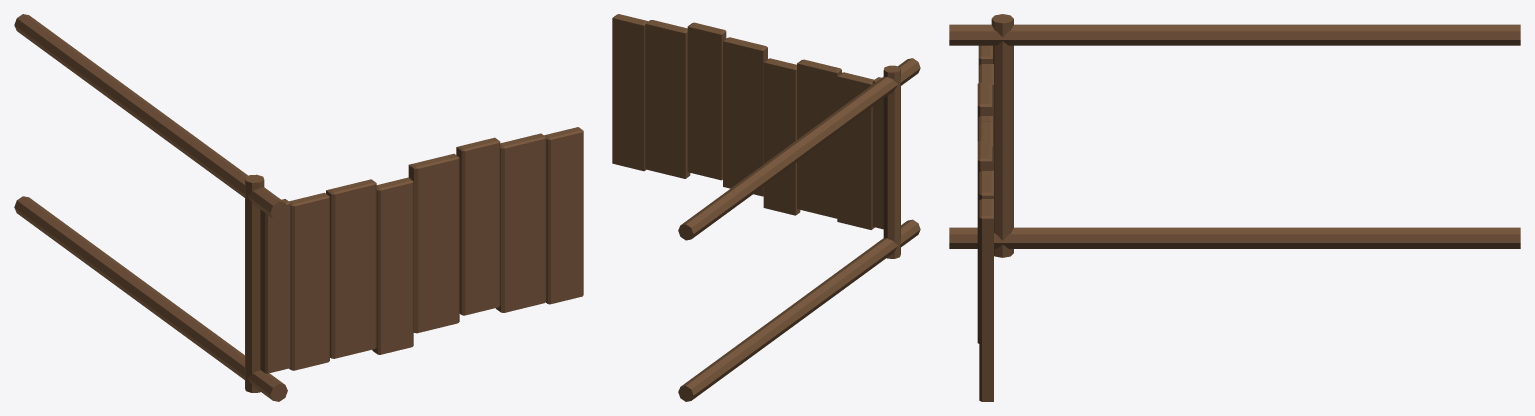
Rendered from Dock_03b_2m.fbx.
3 renders of one model, left to right at view 1: azimuth 30°, elevation 25°; view 2: azimuth 150°, elevation 25°; view 3: azimuth 270°, elevation 25°, orthographic. The views are drawn at different scales.
Visible parts, largest first — view 1: ponton_3.2M.001; view 2: ponton_3.2M.001; view 3: ponton_3.2M.001.
Part boxes in pixels (x1,y1,x2,y2): ponton_3.2M.001: (14, 14, 583, 401); ponton_3.2M.001: (612, 14, 920, 401); ponton_3.2M.001: (949, 14, 1520, 401).
Bounding box in the file's own units: 206 × 126 × 278.
